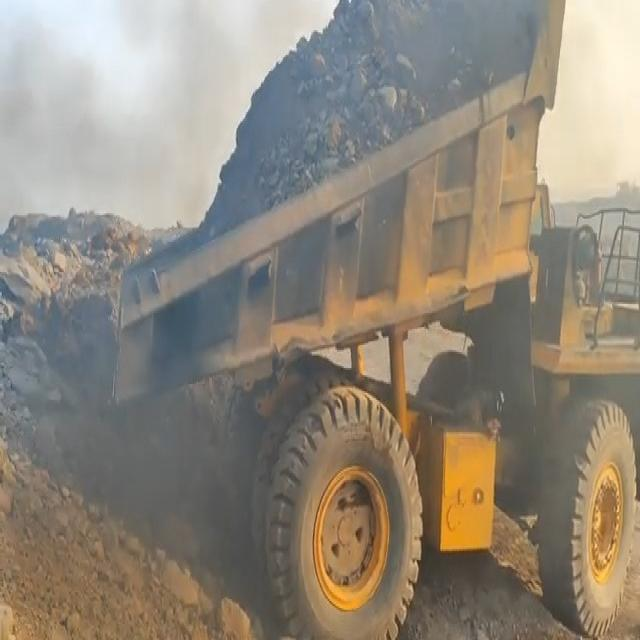dump_truck: (108, 1, 639, 640)
